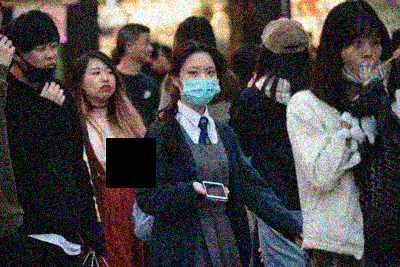mask_weared_incorrect: (341, 32, 385, 85), (26, 42, 59, 85)
with_mask: (180, 64, 222, 107)
without_mask: (85, 65, 118, 103), (135, 36, 154, 64)
